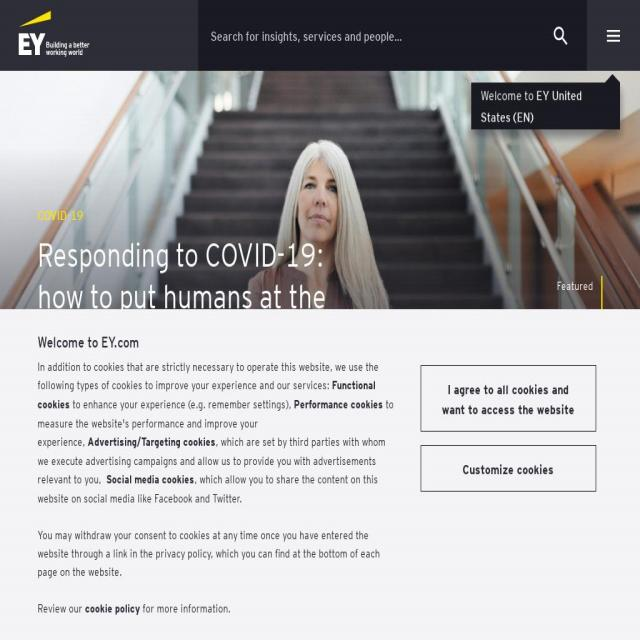options: (598, 11, 629, 55)
search: (198, 12, 574, 61)
